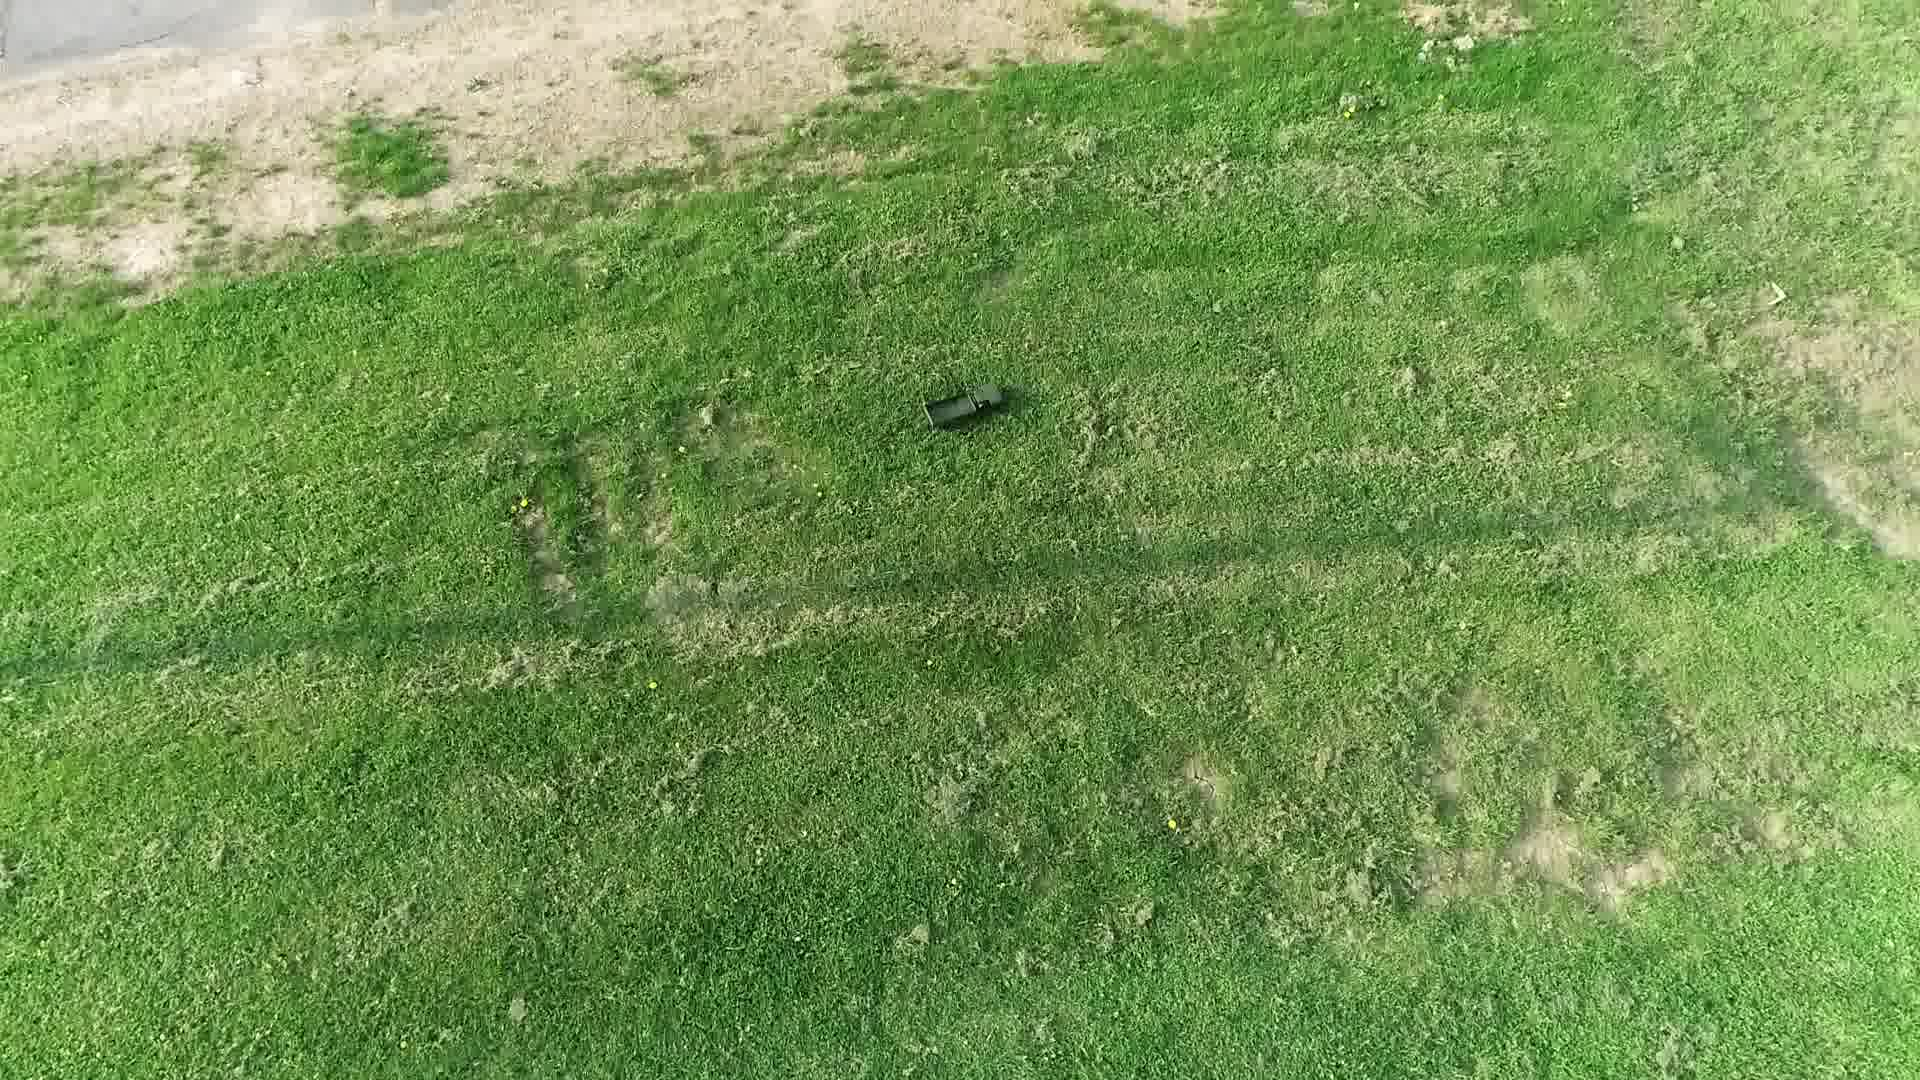transporter9: (919, 378, 1011, 436)
